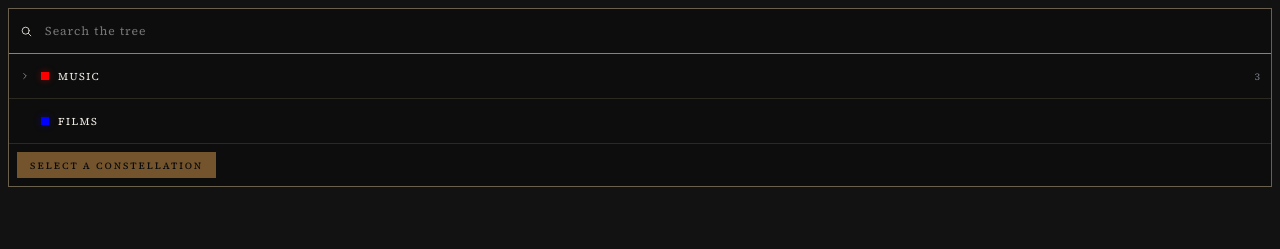
Test: ConstellationPicker › search in the tree › says so when nothing matches and keeps the selection
The image size is (1280, 249).
Click the button "Films": (78, 121) [41,99,1271,143]
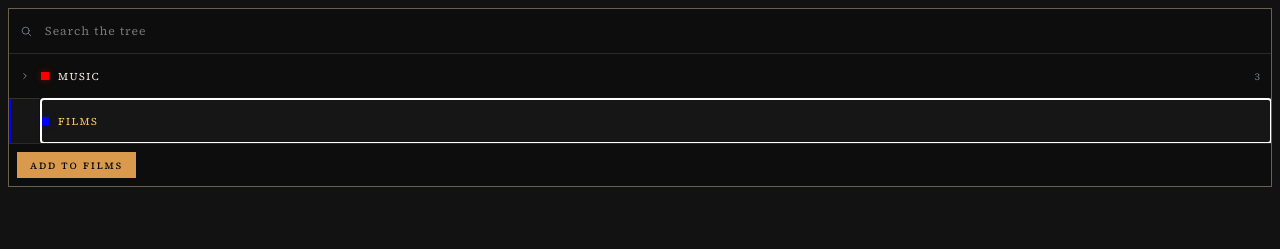
In the field labelled "Search the tree": (654, 31) [37,9,1271,53], type "qqq"
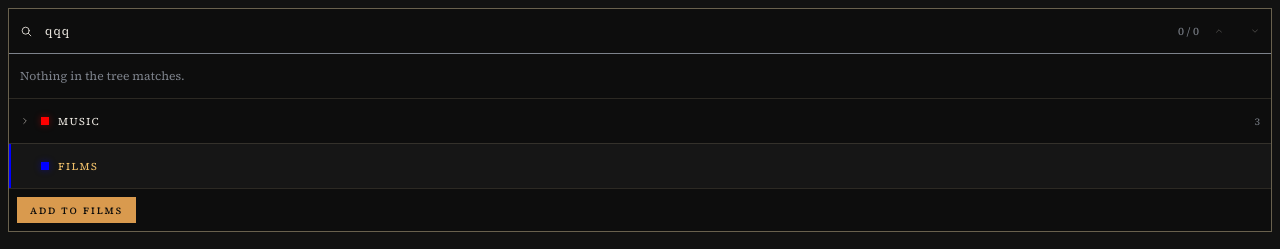
Check: the button "Add to Films" is enabled, box [17,197,136,223]
Check: the text "Nothing in the tree matches." is shown, box [9,54,1271,99]
Check: the text "0 / 0" is shown, box [1178,24,1199,38]
